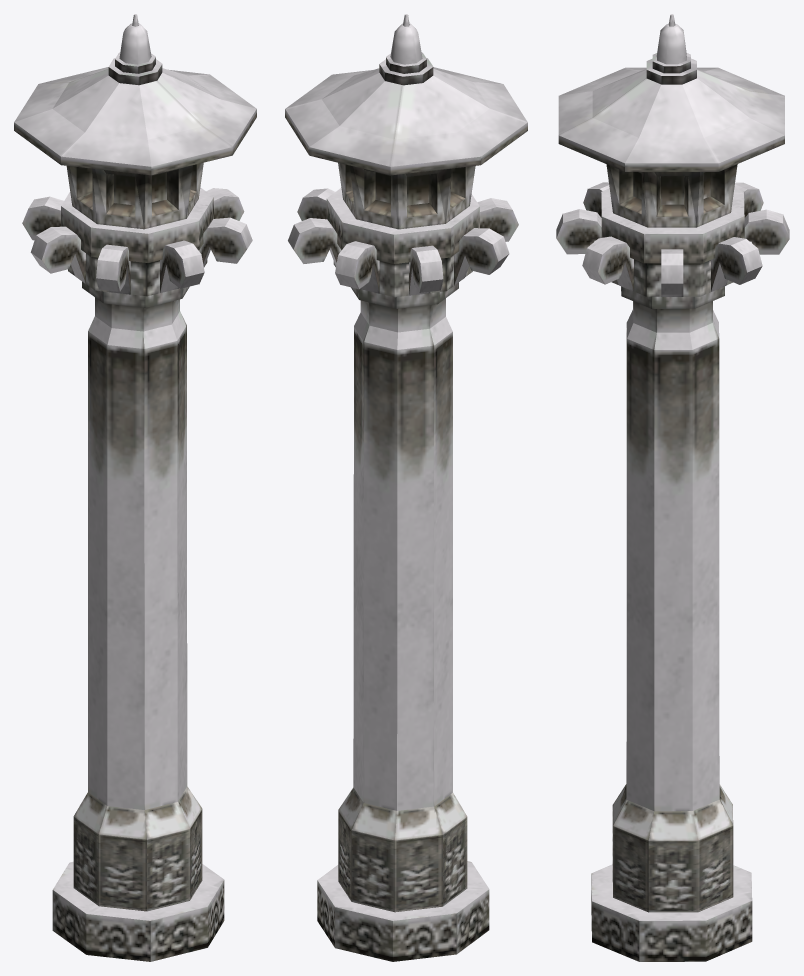
Rendered from nsm-018-stonelight.glb.
3 views of the same model, side by side, from view 1: azimuth 30°, elevation 25°; view 2: azimuth 150°, elevation 25°; view 3: azimuth 270°, elevation 25° (orthographic).
Parts seen in each view (by area): view 1: Cone20; view 2: Cone20; view 3: Cone20.
Boxes of the visible parts, left/top/right/bottom form: Cone20: left=14, top=14, right=256, bottom=961; Cone20: left=285, top=14, right=527, bottom=961; Cone20: left=556, top=14, right=789, bottom=961.
Bounding box in the file's own units: 2.05 × 8.85 × 2.05.
Materials: 1 (1 with a texture image).
